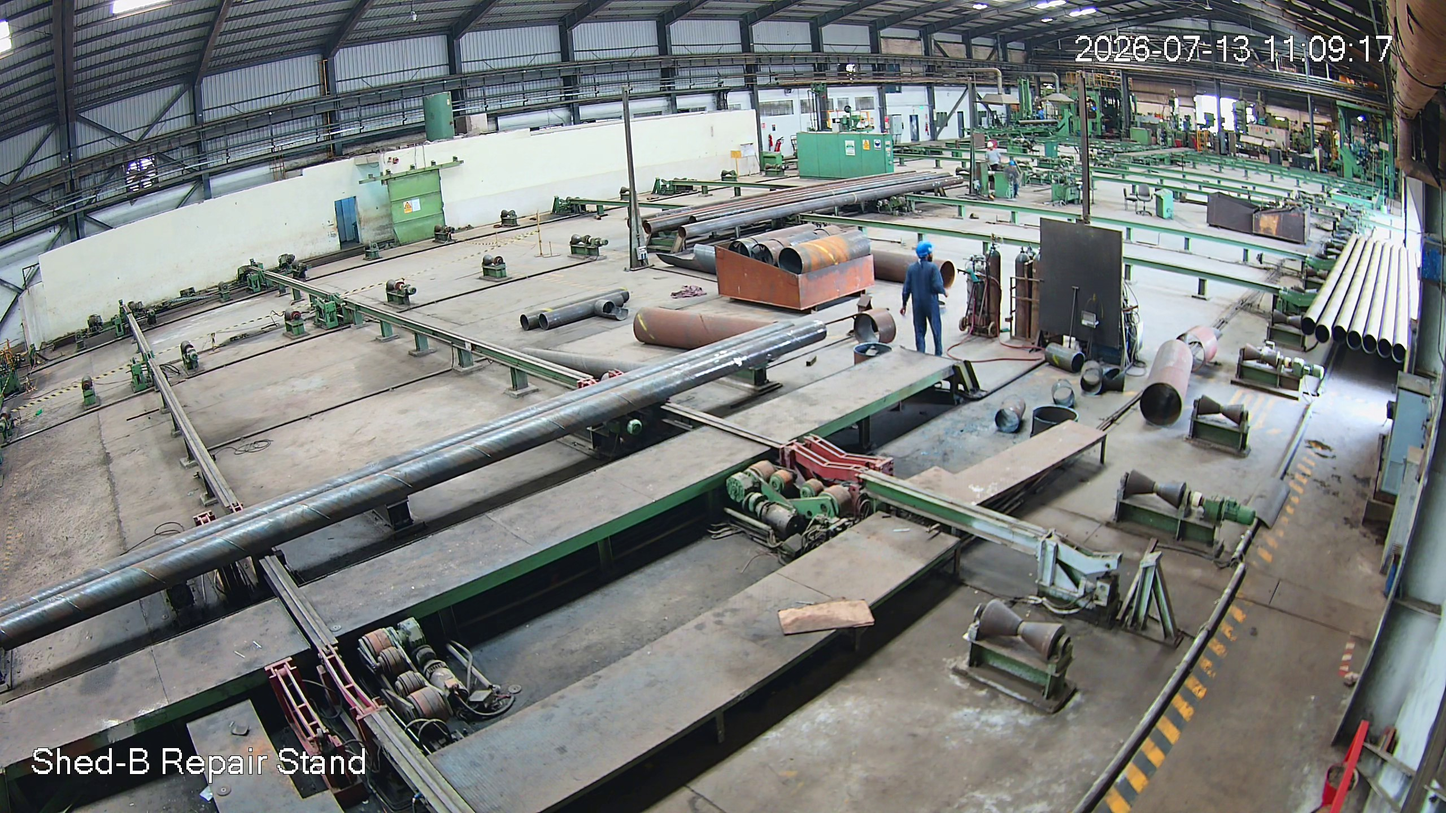Helmet: (910, 241, 942, 272)
Person: (902, 242, 946, 355)
